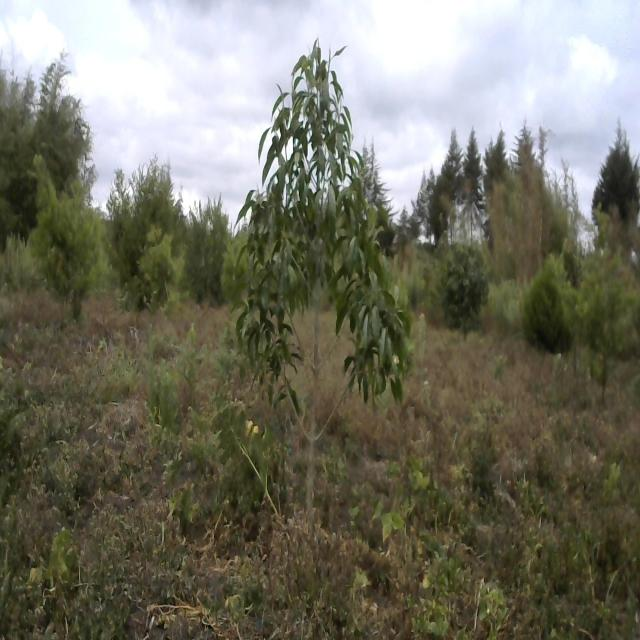Juniperus procesera: (591, 106, 640, 237), (528, 262, 571, 364), (352, 136, 388, 247), (435, 127, 463, 234), (484, 120, 510, 214), (465, 123, 485, 240), (514, 119, 538, 190)
Olea welwitchii: (234, 39, 408, 528)
Podocarpus falcatus: (28, 184, 101, 314)
